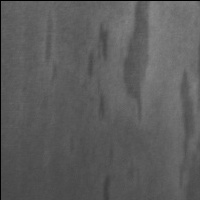inclusion: (120, 2, 152, 124), (171, 68, 200, 200), (83, 20, 111, 87), (40, 8, 62, 86), (93, 80, 111, 122), (98, 169, 116, 200)
